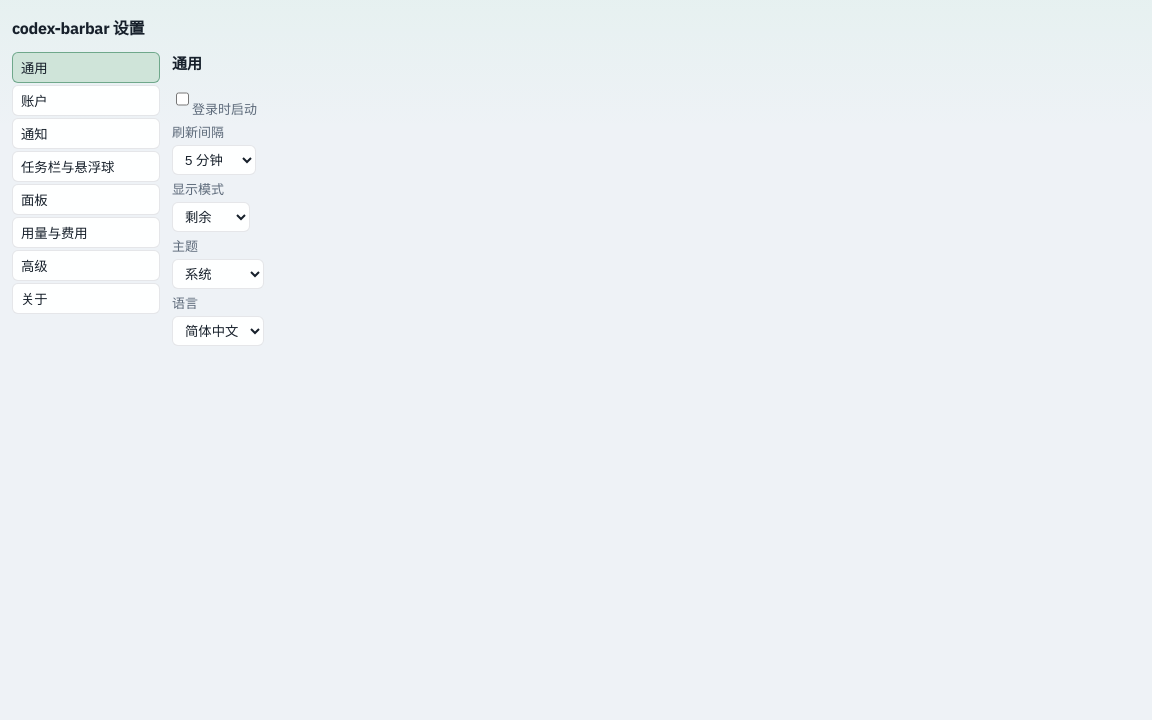
Scenario: Settings surface › uses Chinese sidebar labels and changes the visible pane
Expected: the button "通用" is shown, [12,52,160,83]
Expected: the button "账户" is shown, [12,85,160,116]
Click the button "通知": [86, 134] box [12,118,160,149]
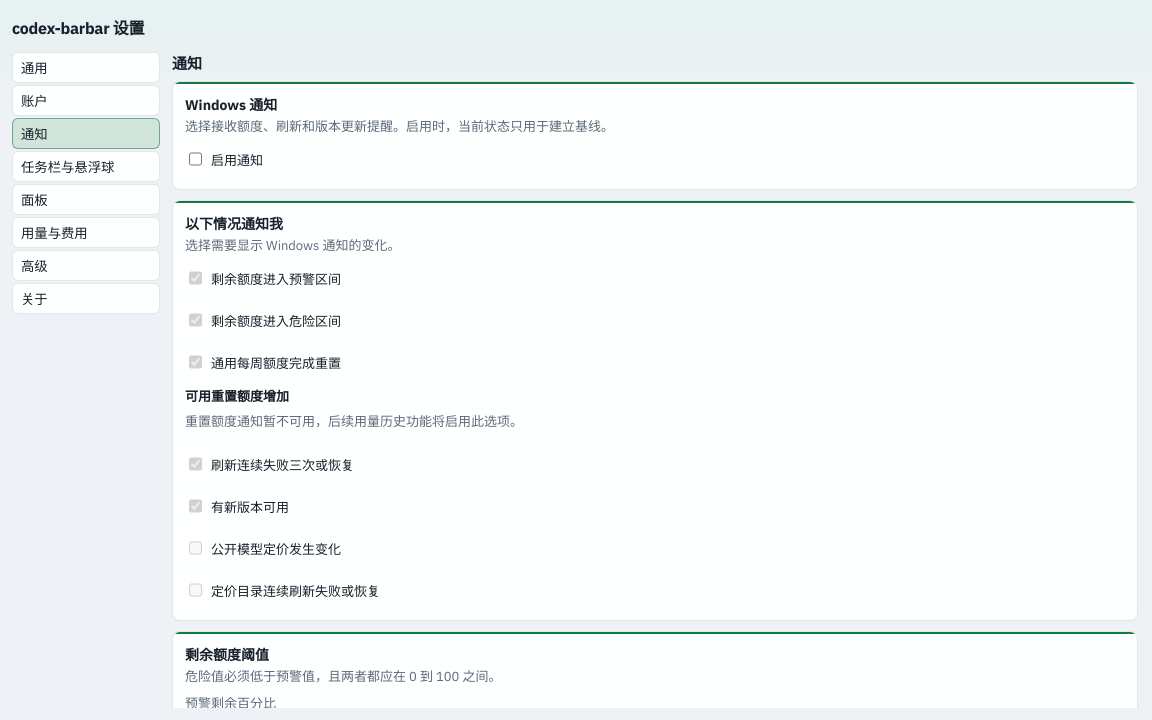
Expected: the checkbox labelled "启用通知" is shown, [189,144,202,174]
Expected: the heading "通知" is shown, [172,54,202,73]
